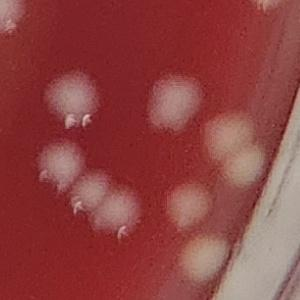colony: (38, 66, 107, 133), (140, 67, 205, 135), (85, 178, 145, 246), (197, 107, 261, 165), (29, 137, 88, 198), (172, 228, 232, 285), (158, 177, 214, 231), (63, 161, 117, 216), (213, 138, 270, 190), (0, 0, 31, 41), (239, 0, 300, 19)
